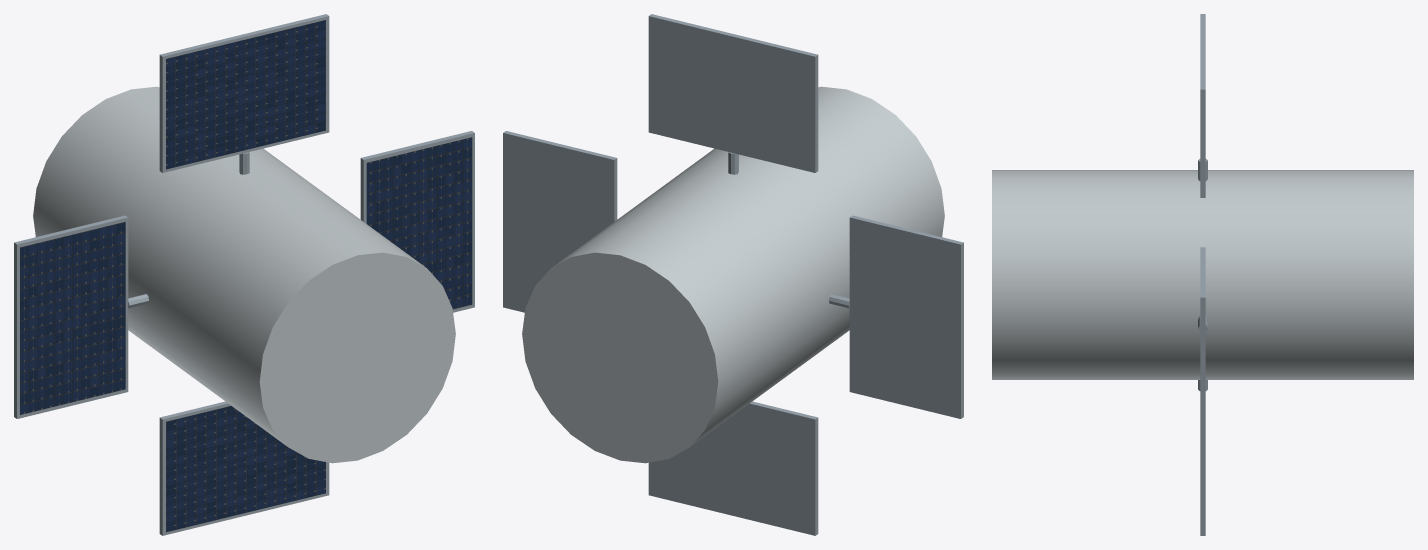
Rendered from ref-ans-7427.glb.
3 renders of one model, left to right at view 1: azimuth 30°, elevation 25°; view 2: azimuth 150°, elevation 25°; view 3: azimuth 270°, elevation 25°, orthographic. The views are drawn at different scales.
Parts seen in each view (by area): view 1: Spacecraft body, Photovoltaic laminates (×4), Array frame (×4); view 2: Spacecraft body, Array frame (×4); view 3: Spacecraft body, Array frame (×2).
Part boxes in pixels (x1=…): Spacecraft body: x1=33, y1=86, x2=455, y2=463; Photovoltaic laminates (×4): x1=20, y1=20, x2=472, y2=532; Array frame (×4): x1=14, y1=14, x2=474, y2=535; Spacecraft body: x1=522, y1=86, x2=944, y2=463; Array frame (×4): x1=503, y1=14, x2=963, y2=535; Spacecraft body: x1=992, y1=170, x2=1413, y2=379; Array frame (×2): x1=1200, y1=14, x2=1205, y2=460.
Bounding box in the file's own units: 1.4 × 1.4 × 1.2.
3 materials, 1 textured.
